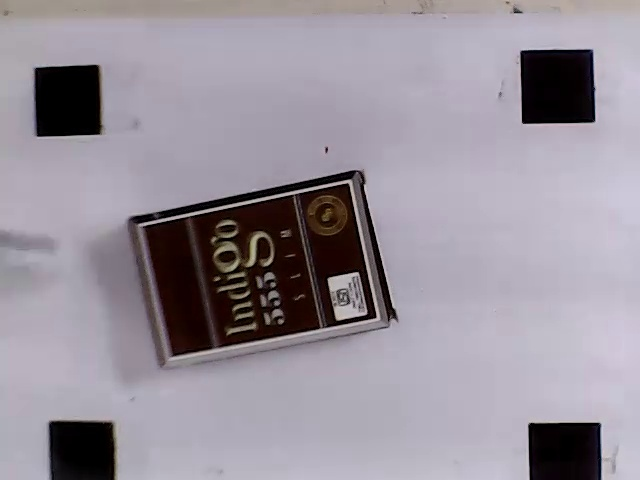BEX: (138, 182, 378, 361)
